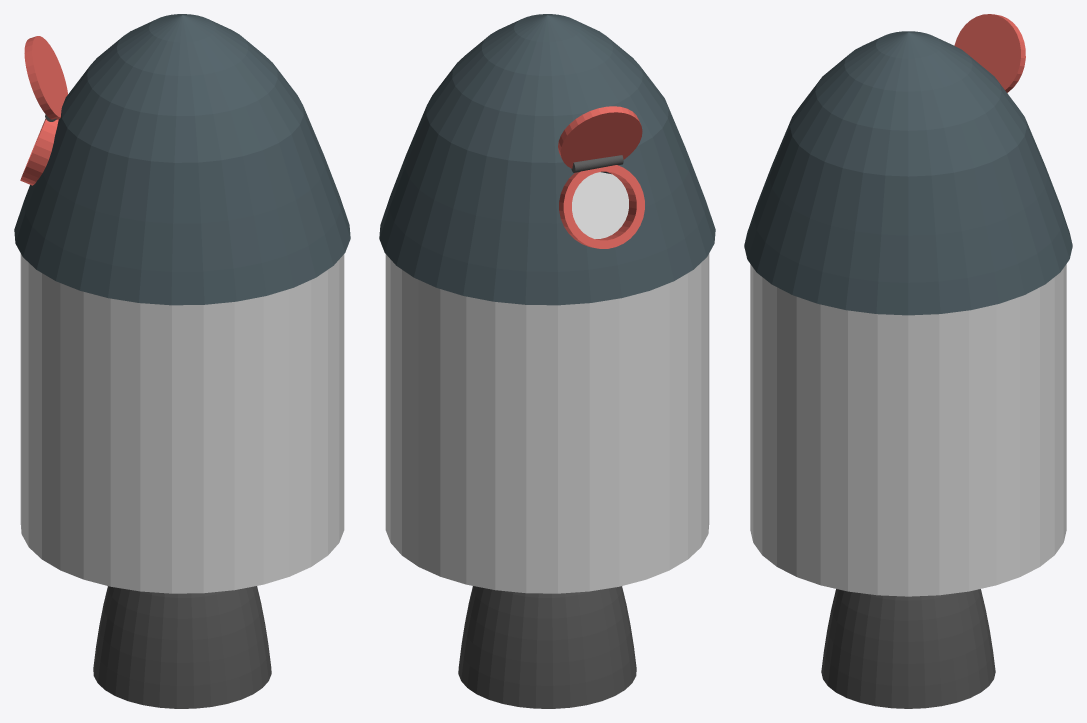
Rendered from rocket.fbx.
3 renders of one model, left to right at view 1: azimuth 30°, elevation 25°; view 2: azimuth 150°, elevation 25°; view 3: azimuth 270°, elevation 25°, orthographic. The views are drawn at different scales.
Parts seen in each view (by area): view 1: Cylinder; view 2: Cylinder; view 3: Cylinder.
Boxes of the visible parts, x1=… form: Cylinder: x1=14, y1=14, x2=350, y2=708; Cylinder: x1=379, y1=14, x2=715, y2=708; Cylinder: x1=744, y1=14, x2=1072, y2=708.
Bounding box in the file's own units: 208 × 446 × 208.
